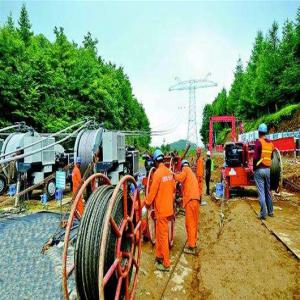blue: (154, 148, 166, 168), (258, 122, 269, 141), (76, 156, 83, 170)
red: (197, 146, 203, 159)
white: (207, 150, 212, 160)
